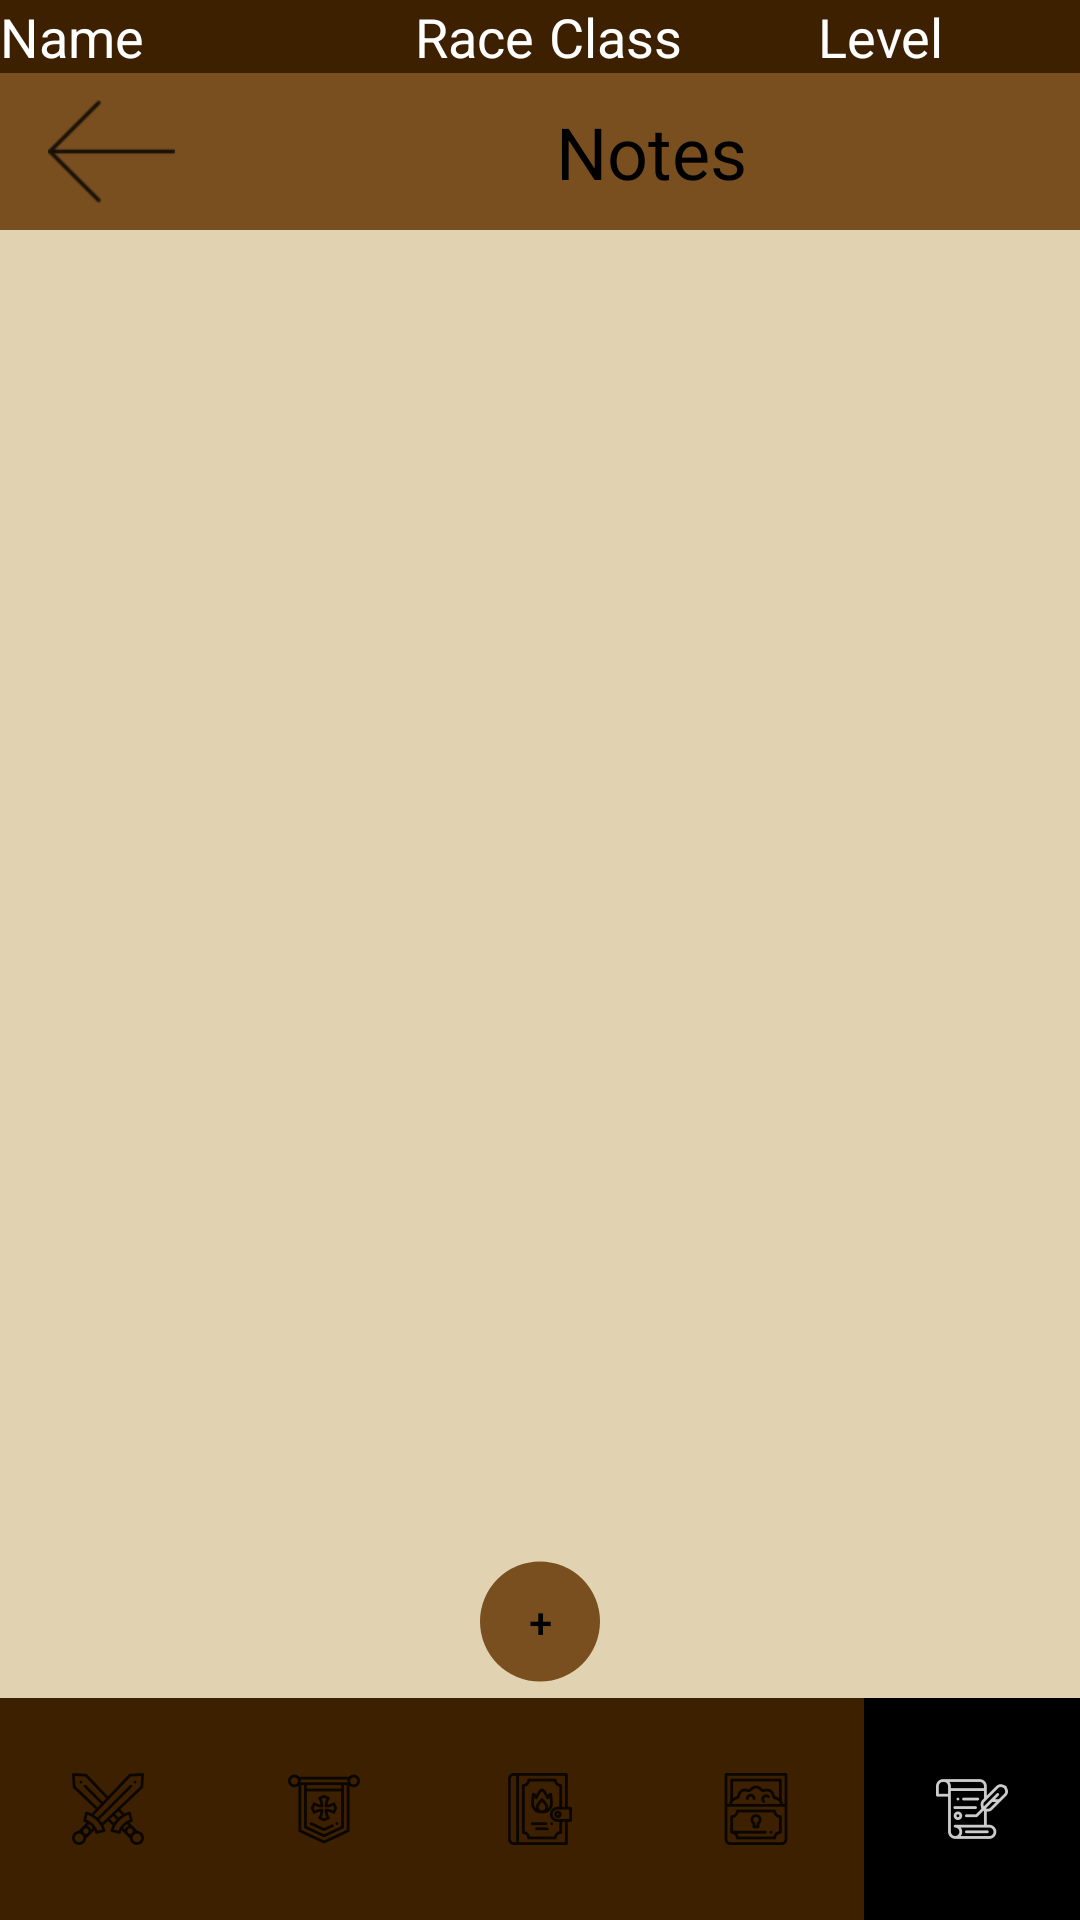

Where icons sit on this 1080 × 1920 app screen, as (x1, y1, x2, y2):
attacks: (72, 1773, 144, 1845)
back: (48, 100, 175, 203)
inventory: (725, 1773, 787, 1845)
